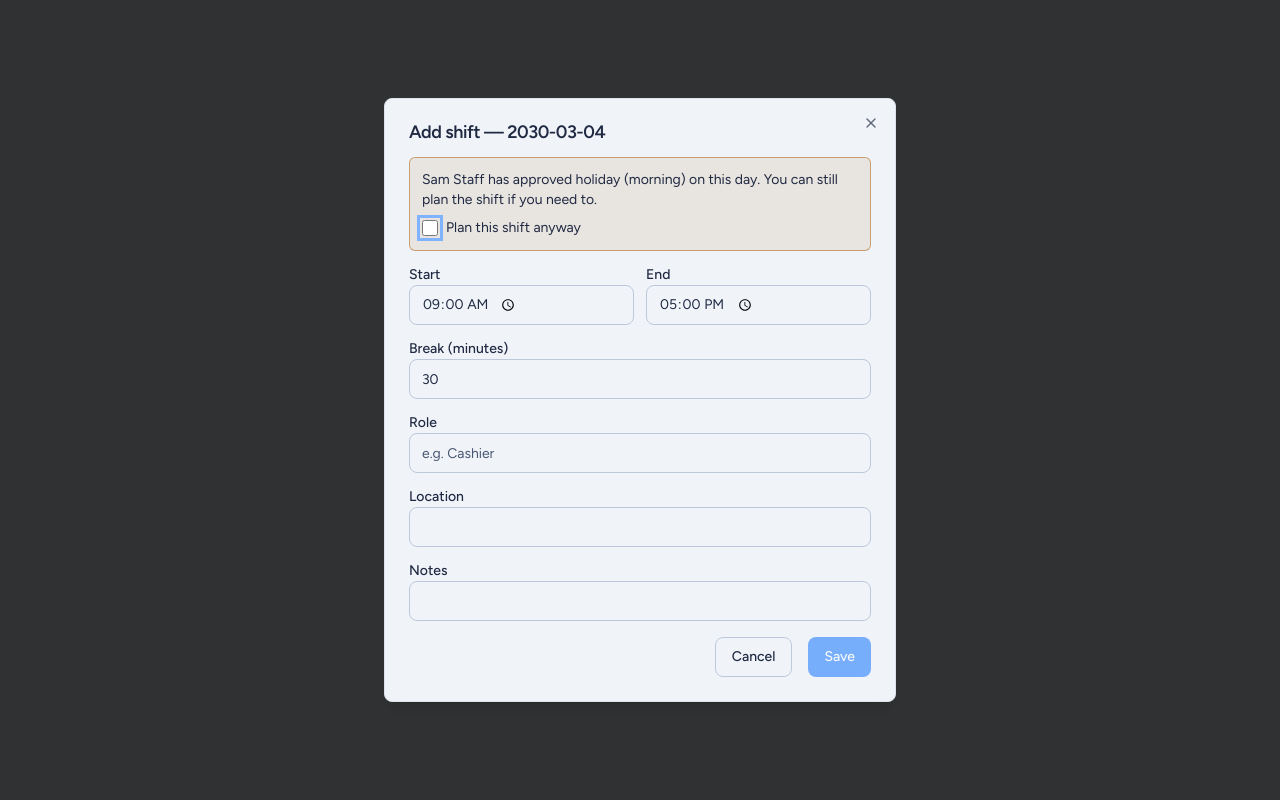
it: a shift on approved holiday (Phase 32) › warns and needs a confirmation before saving (not blocked)
This screenshot has width=1280, height=800.
Expected: the message with test id "shift-holiday-warning" shows "Sam Staff has approved holiday (morning) on this day. You can still plan the shift if you need to.", x1=422 y1=171 x2=838 y2=208
Expected: the button "Save" is disabled, x1=808 y1=637 x2=871 y2=677
Click the checkbox labelled "Plan this shift anyway": x=430, y=228 x1=422 y1=220 x2=438 y2=236
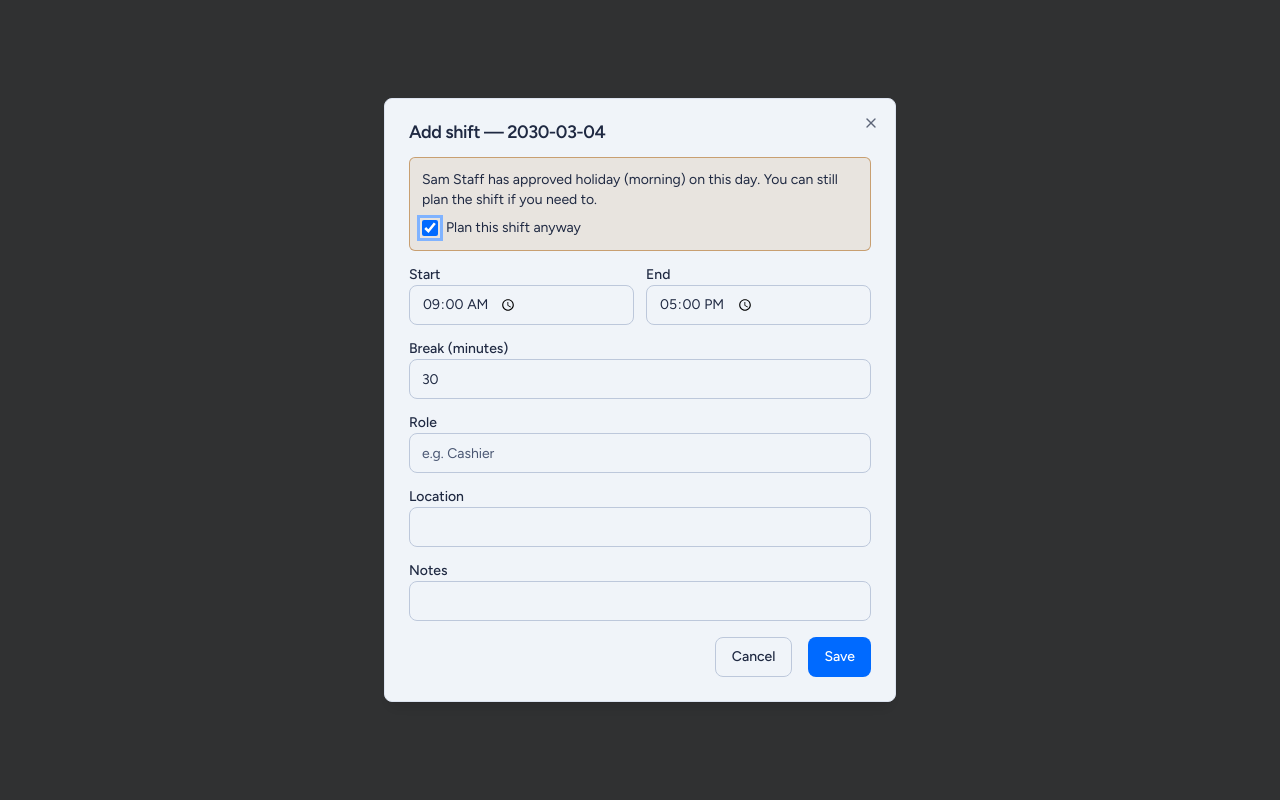
Now the button "Save" is enabled, box x1=808 y1=637 x2=871 y2=677
